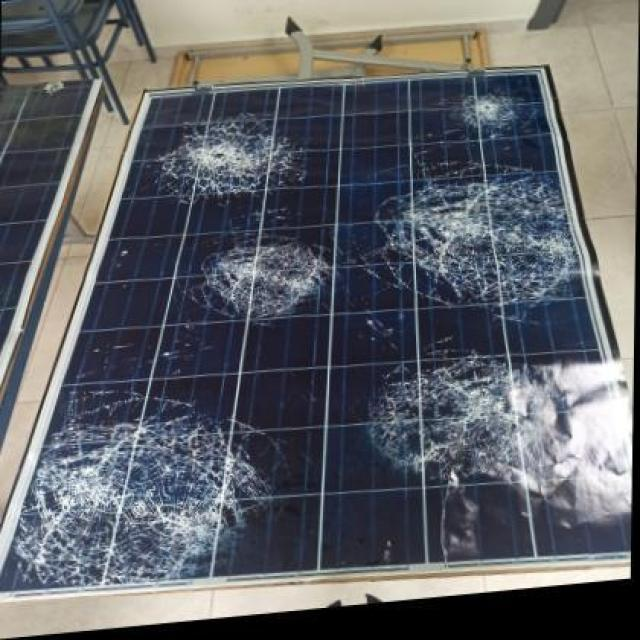cracked: (3, 71, 634, 592)
